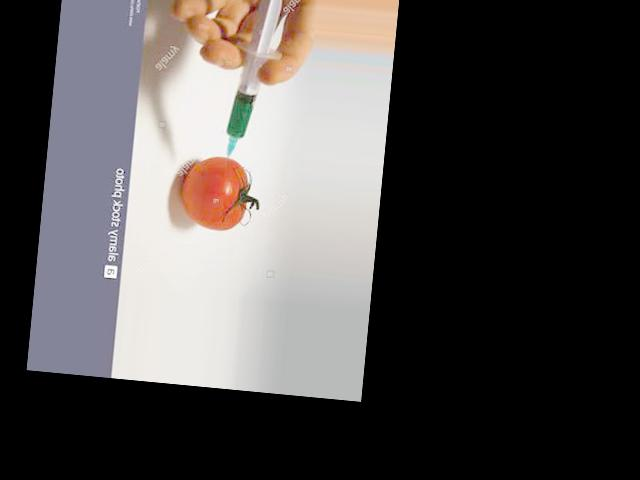tomato: (179, 153, 250, 231)
